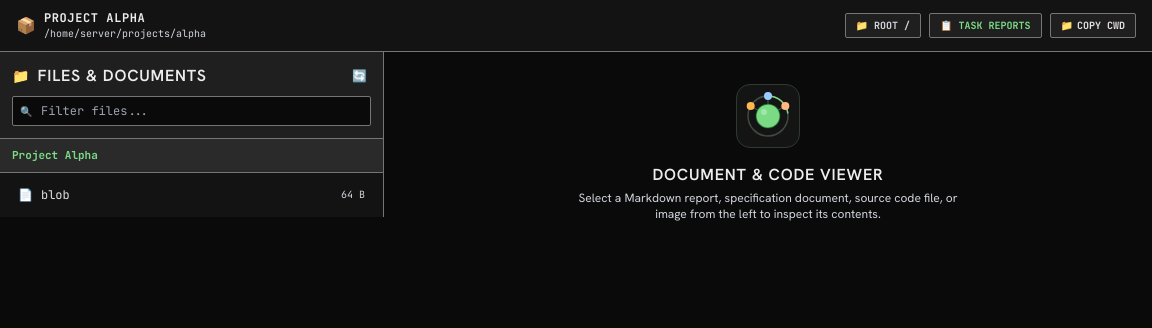
ProjectExplorer Component › falls back to the download pane when the text endpoint refuses with 415
The image size is (1152, 328).
Click the text "blob".
click(55, 194)  # box [41,186,70,202]
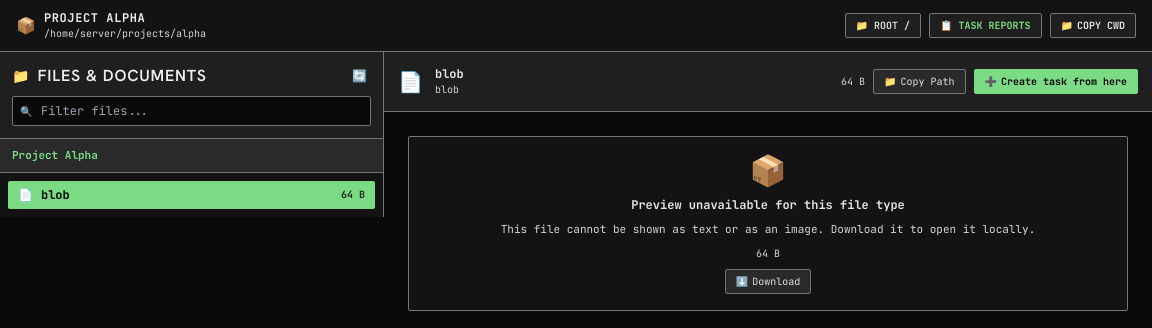
Now the heading "Preview unavailable for this file type" is shown, box [631,197,905,213]
